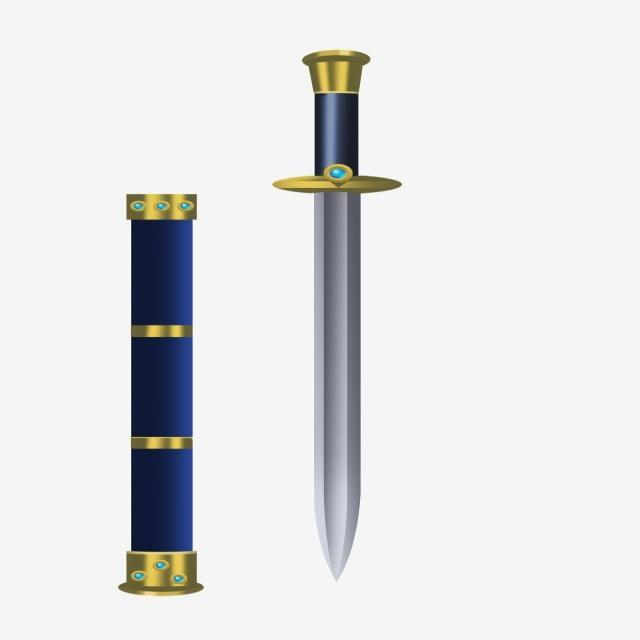long sword: (274, 48, 388, 582)
